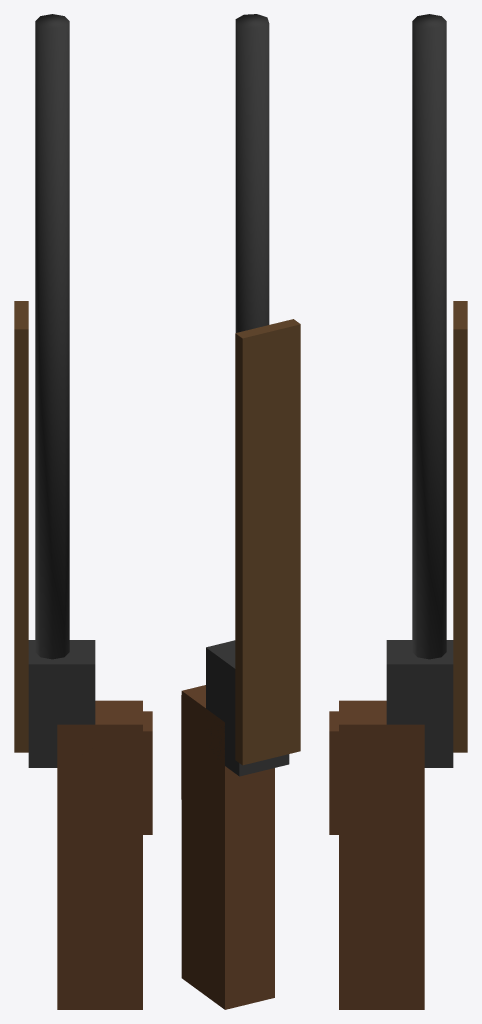
File: sniper_rifle.glb
The picture shows the model from 3 angles, left to right: view 1: azimuth 90°, elevation 25°; view 2: azimuth 210°, elevation 25°; view 3: azimuth 270°, elevation 25°; orthographic projection.
Parts seen in each view (by area): view 1: sniper_rifle_v0; view 2: sniper_rifle_v0; view 3: sniper_rifle_v0.
Part boxes in pixels (x1,y1,x2,y2): sniper_rifle_v0: [14, 14, 152, 1009]; sniper_rifle_v0: [181, 14, 300, 1009]; sniper_rifle_v0: [329, 14, 467, 1009].
Bounding box in the file's own units: 0.07 × 1.13 × 0.145.
